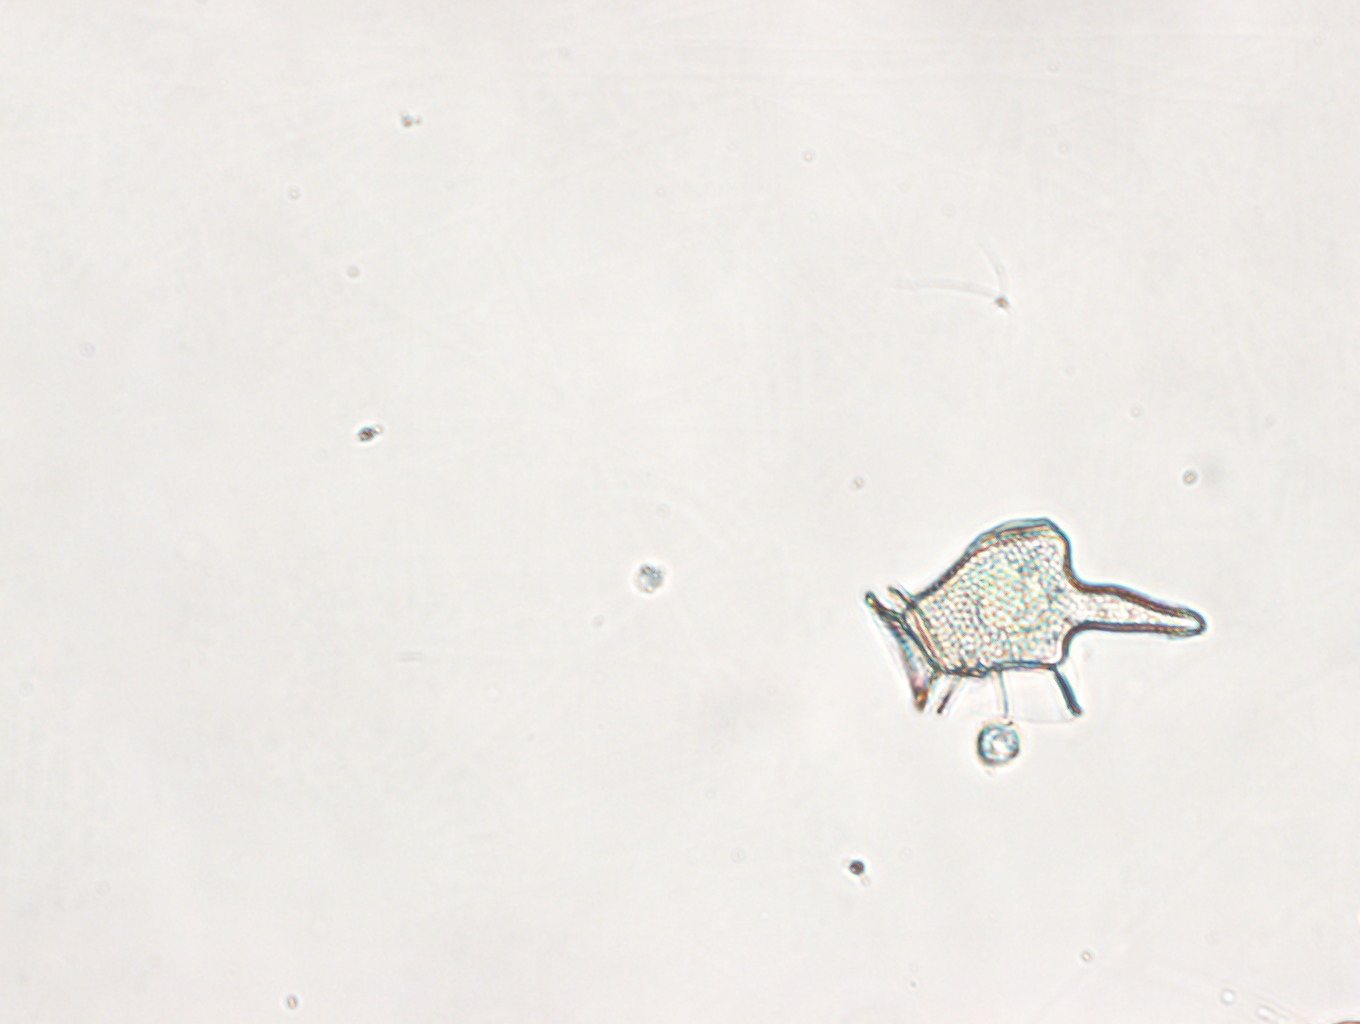dinophysis caudata: (863, 514, 1208, 727)
